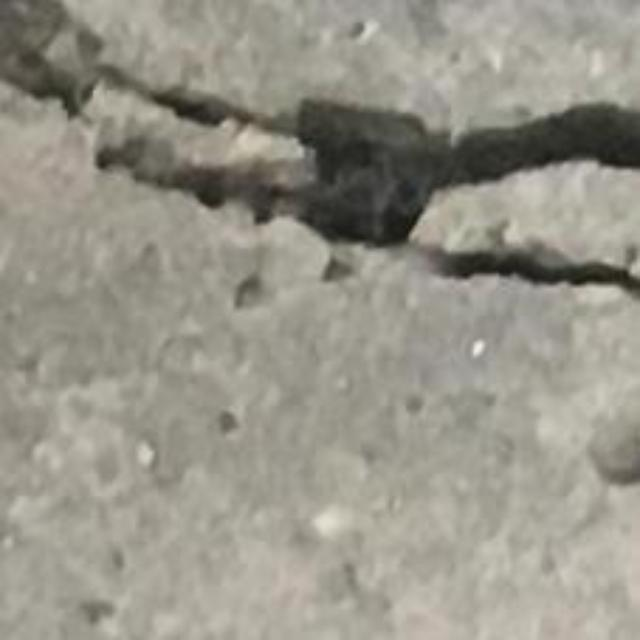crack: (0, 0, 639, 290)
